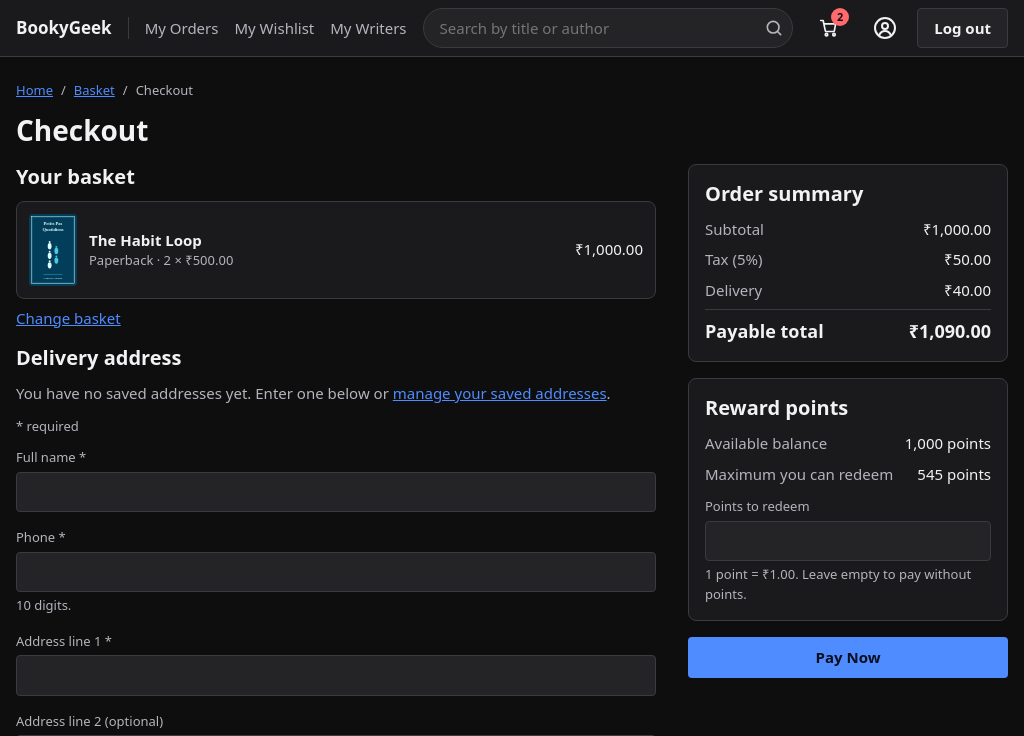
Scenario: CheckoutPage reward points › reduces the payable total by one rupee per point as the customer types (FR-RWD-02)
The width and height of the screenshot is (1024, 736).
In the field labelled "Points to redeem": (848, 541) [705,520,991,561], type "100"
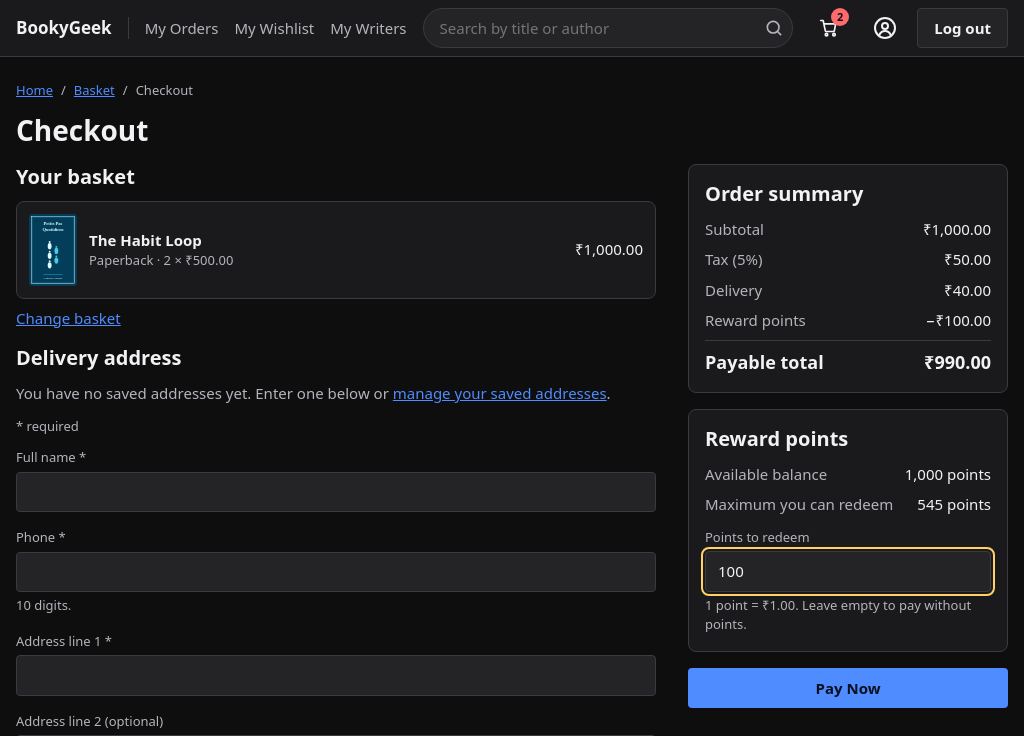
Expected: the text "−₹100.00" is shown, [926,309,991,332]
Expected: the text "₹990.00" is shown, [924,348,991,376]
Clear the field labelled "Points to redeem": (848, 571) [705,551,991,592]
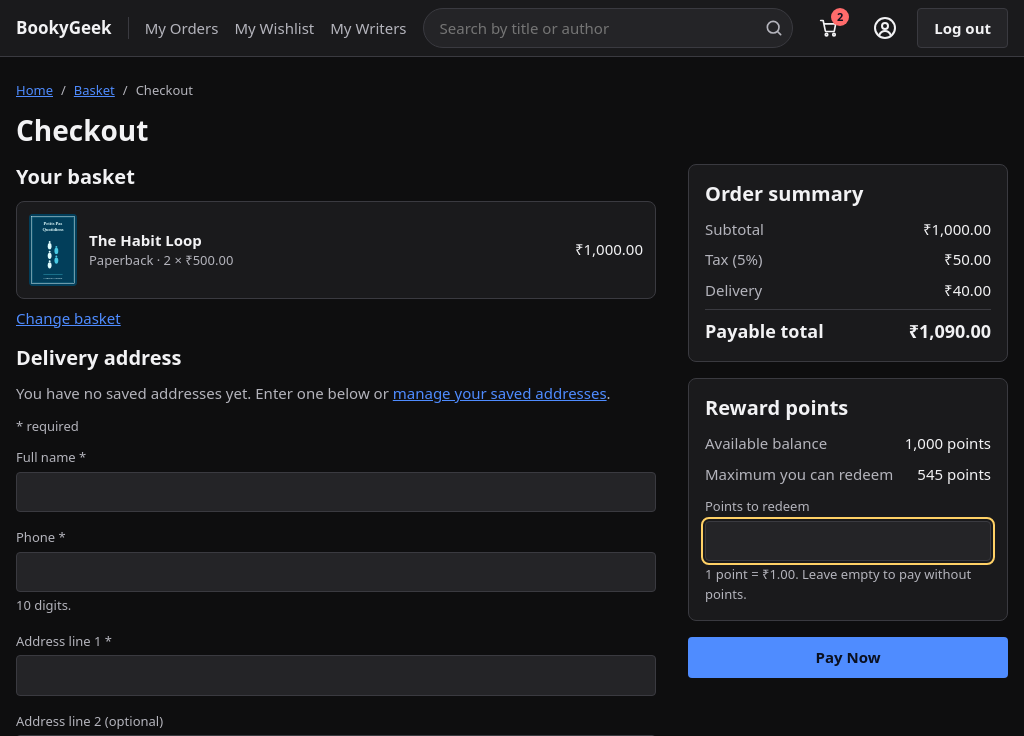
Expected: the text "₹1,090.00" is shown, [909,318,991,345]
